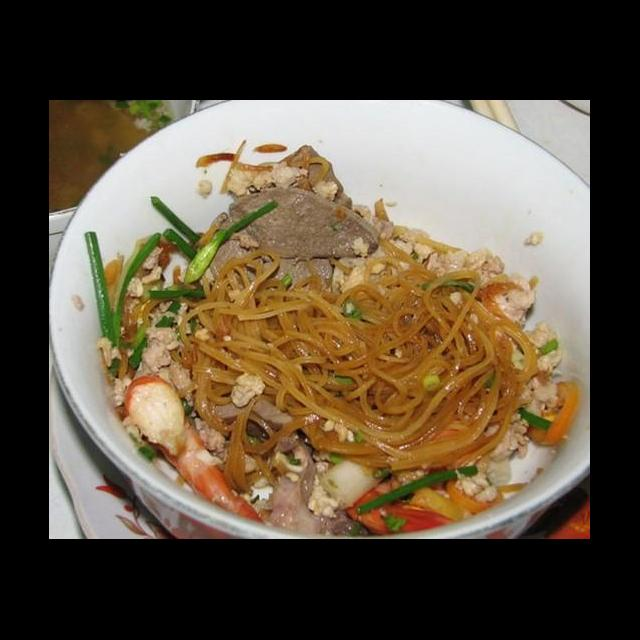gan: (210, 182, 386, 264), (206, 212, 340, 296)
hu tieu: (160, 234, 542, 498)
thit bam: (90, 240, 204, 412)
thit heo: (482, 319, 570, 466), (420, 244, 540, 346)
tom: (123, 372, 270, 530)
